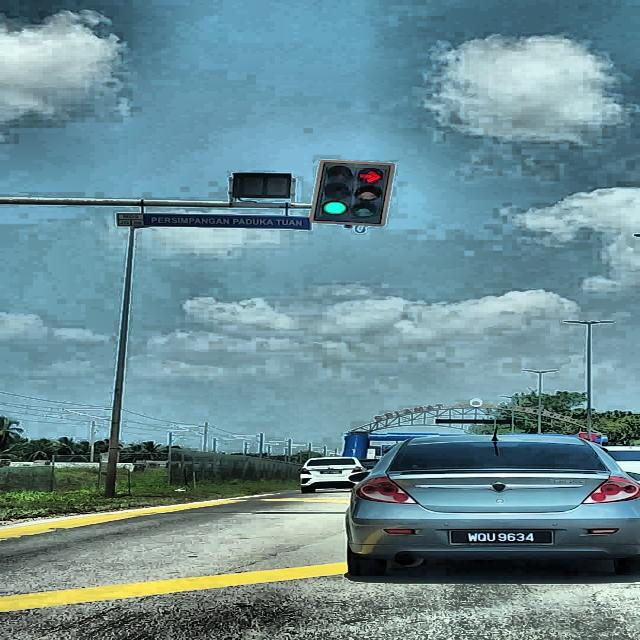green: (310, 162, 354, 224)
red: (348, 163, 392, 225)
